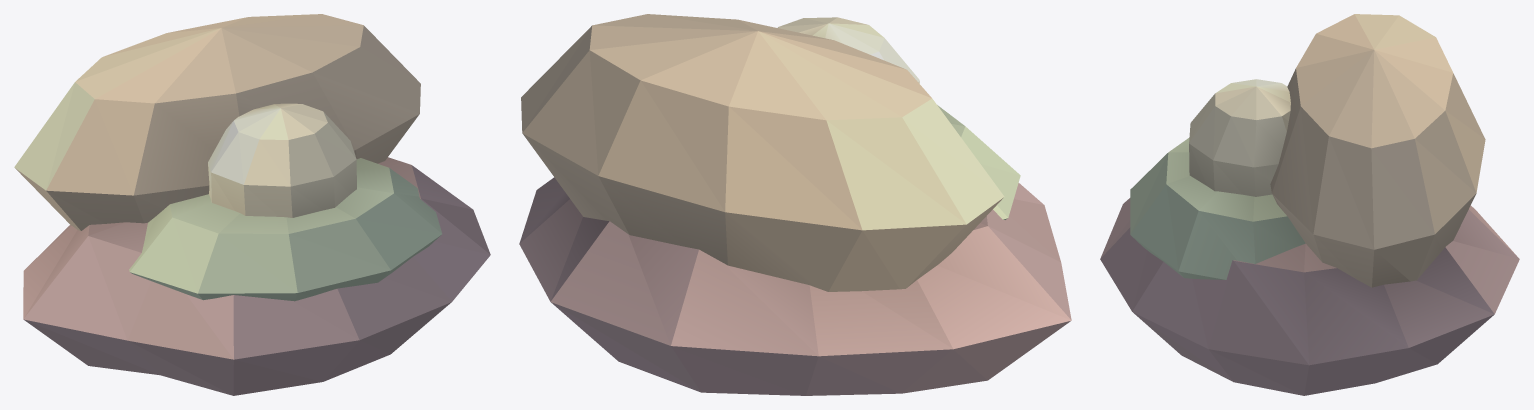
Rendered from find_mother_pearl.glb.
3 views of the same model, side by side, from view 1: azimuth 30°, elevation 25°; view 2: azimuth 150°, elevation 25°; view 3: azimuth 270°, elevation 25° (orthographic). The views are drawn at different scales.
Parts seen in each view (by area): view 1: find_mother_pearl; view 2: find_mother_pearl; view 3: find_mother_pearl.
Part boxes in pixels (bbox=[...]): find_mother_pearl: bbox=[14, 14, 490, 395]; find_mother_pearl: bbox=[519, 14, 1071, 395]; find_mother_pearl: bbox=[1100, 14, 1519, 395].
Size of the model in its own units: 0.5868 by 0.371 by 0.4777.
